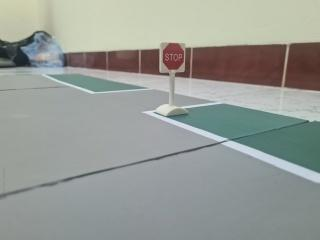stop: (157, 38, 193, 76)
